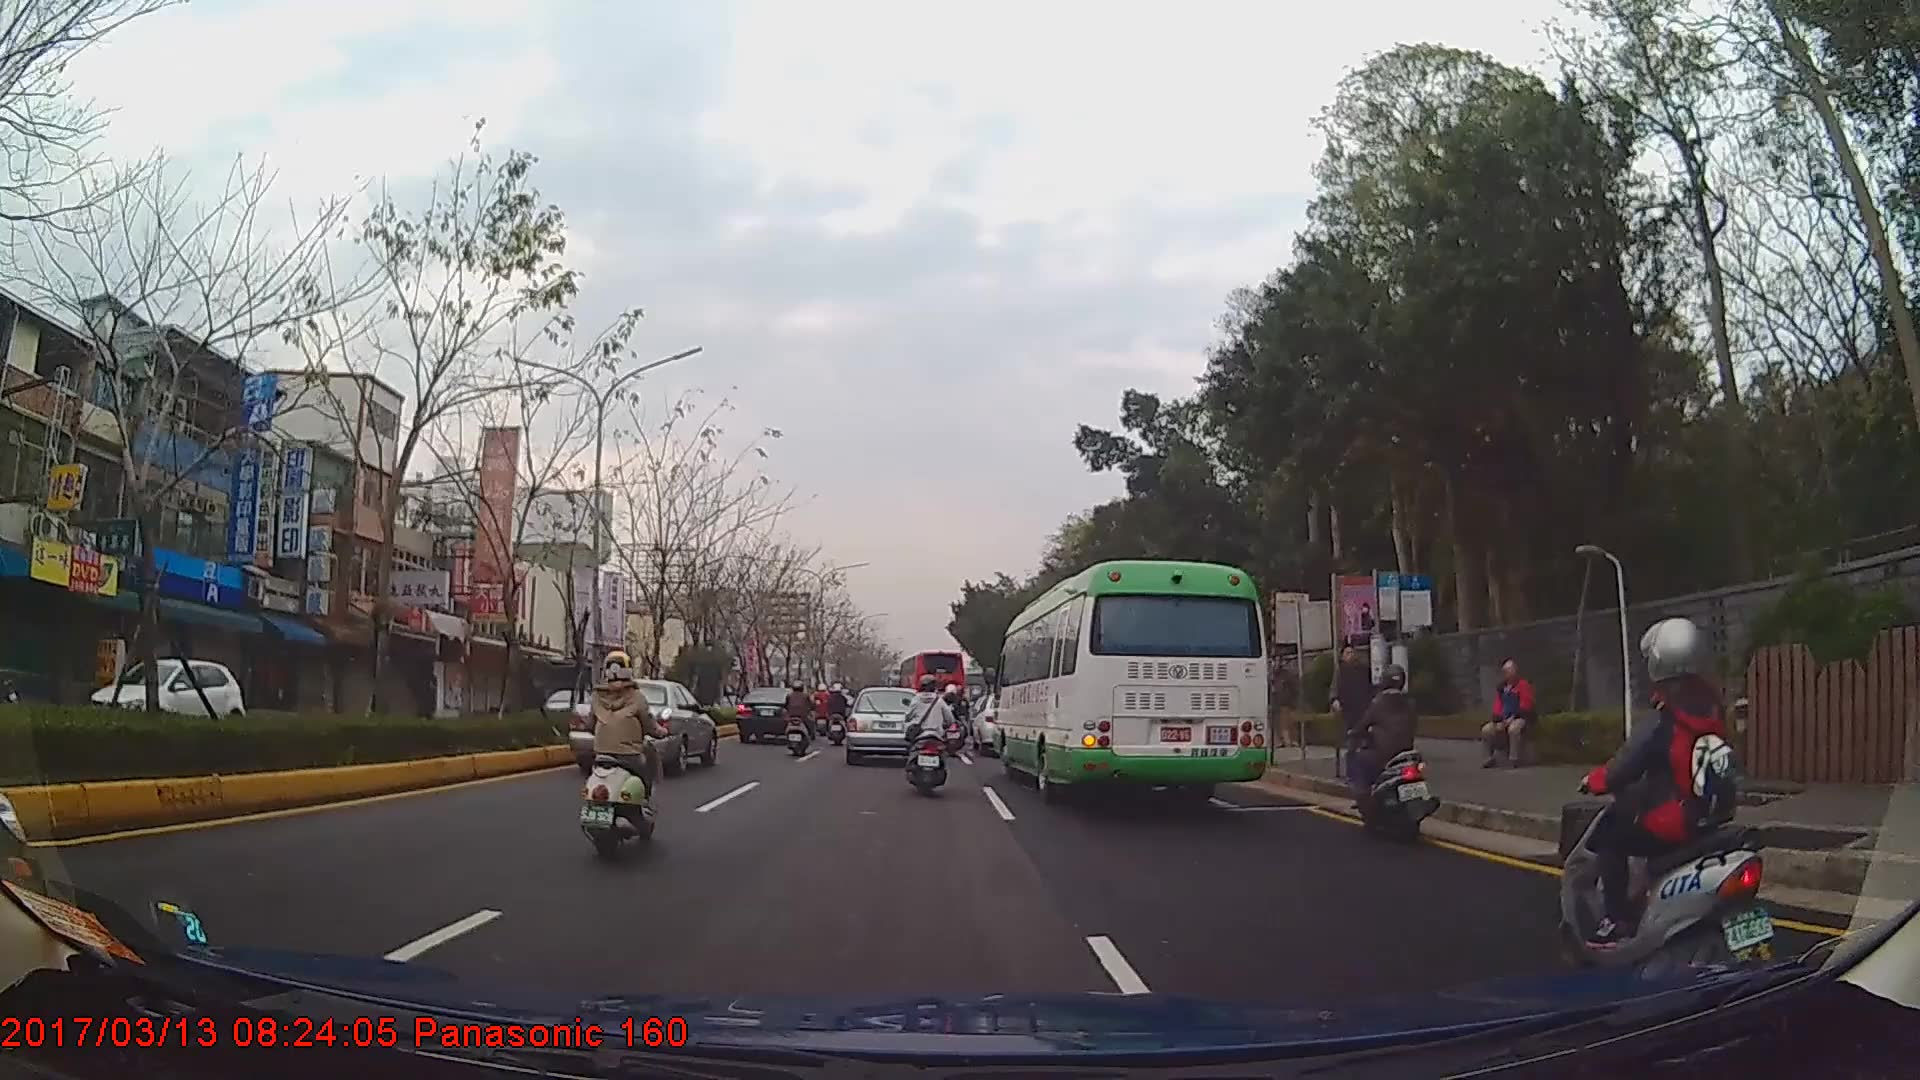pedestrian: (1329, 645, 1380, 783), (1482, 657, 1538, 771), (1267, 650, 1298, 749)
rider: (1560, 613, 1772, 976), (586, 648, 671, 860), (1344, 661, 1435, 846), (907, 675, 958, 795), (786, 679, 818, 757), (941, 681, 971, 739), (827, 683, 851, 745), (814, 683, 834, 737)
vehicle: (990, 558, 1269, 800), (566, 678, 715, 772), (83, 653, 247, 736), (842, 684, 927, 761), (900, 647, 970, 717), (735, 683, 814, 744)
